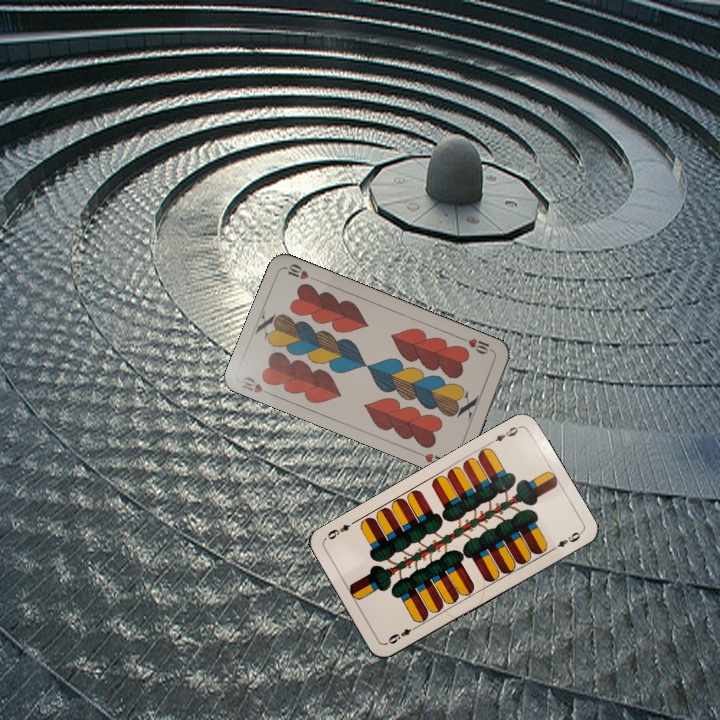E9: (383, 621, 420, 647), (485, 422, 522, 447)
H10: (237, 373, 276, 398), (458, 333, 497, 357)
